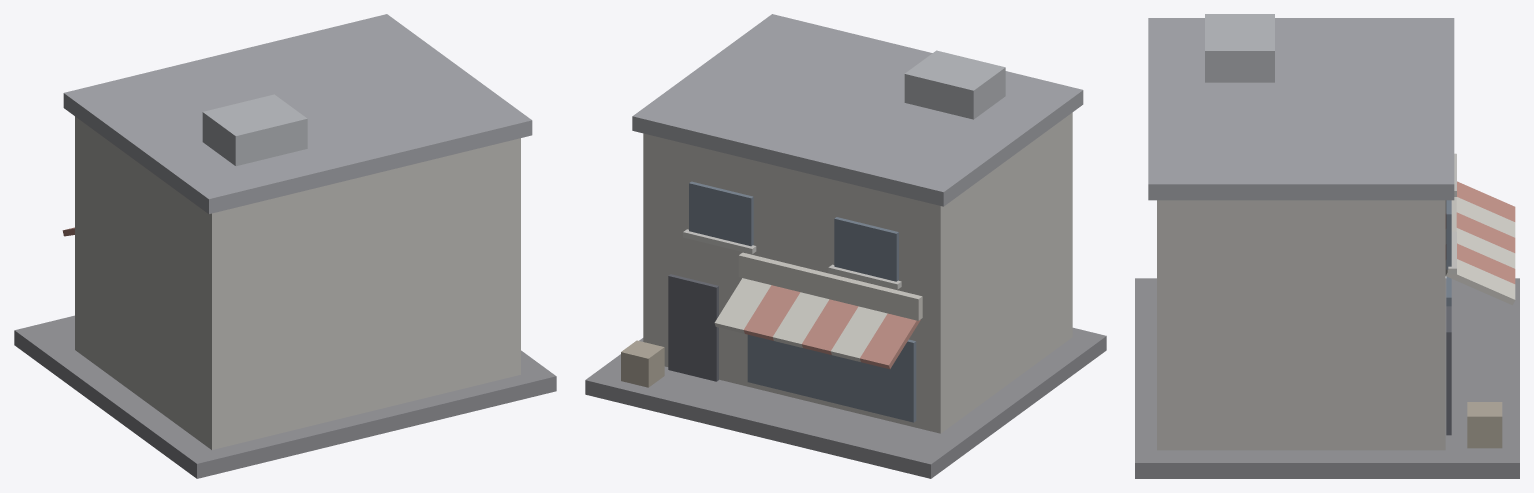
The model's file is kind-storefront.glb.
The picture shows the model from 3 angles, left to right: view 1: azimuth 30°, elevation 25°; view 2: azimuth 150°, elevation 25°; view 3: azimuth 270°, elevation 25°; orthographic projection. The views are drawn at different scales.
Visible parts, largest first — view 1: kind-storefront; view 2: kind-storefront; view 3: kind-storefront.
Part boxes in pixels (left/top/right/bottom): kind-storefront: left=14, top=14, right=556, bottom=478; kind-storefront: left=585, top=14, right=1106, bottom=478; kind-storefront: left=1135, top=14, right=1519, bottom=478.
Size of the model in its own units: 1 by 0.8 by 0.88.
